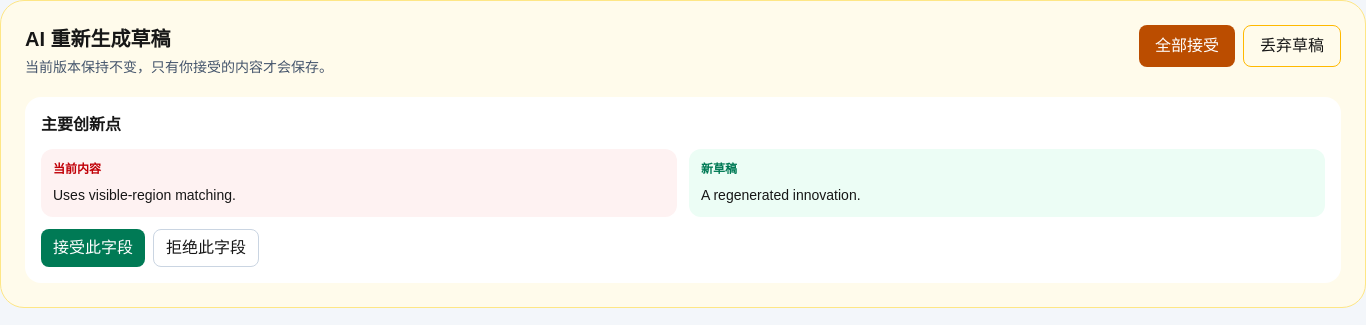
NoteEditor › accepts or rejects regenerated fields without replacing current implicitly
Expected: the text "Uses visible-region matching." is shown, [53, 187, 236, 203]
Expected: the text "A regenerated innovation." is shown, [701, 187, 861, 203]
Step 1. Click the button "拒绝此字段" → (206, 248), box [153, 229, 259, 267]
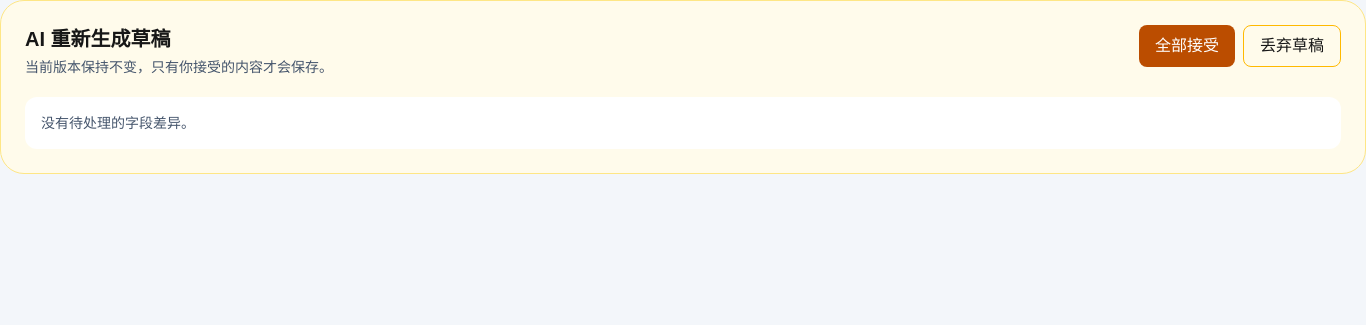
Result: the text "A regenerated innovation." is gone
